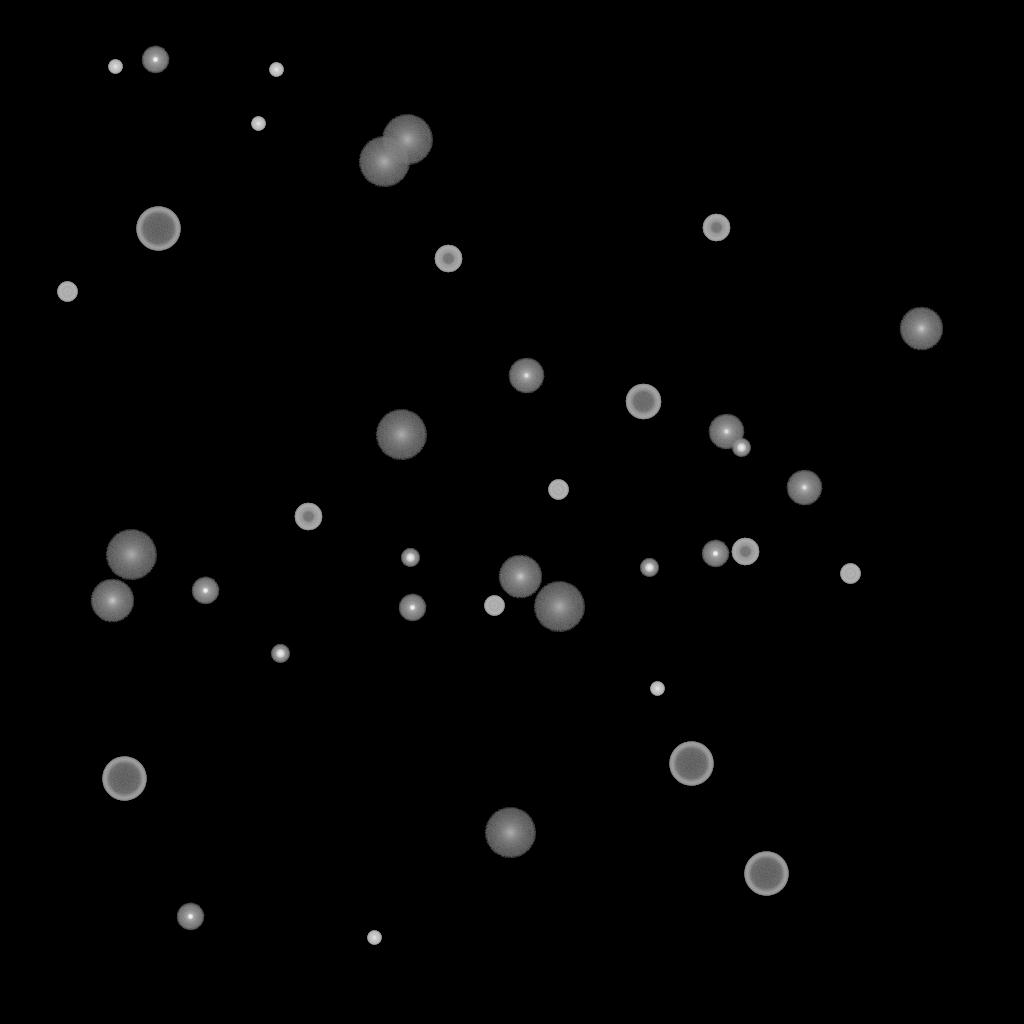depth:-10: (191, 577, 219, 605), (176, 903, 204, 931), (398, 594, 426, 622), (141, 46, 169, 74), (701, 540, 729, 568)
depth:-20: (271, 645, 289, 663), (640, 559, 658, 577), (401, 549, 419, 567), (732, 439, 750, 457)
depth:-30: (251, 117, 265, 131), (269, 63, 283, 77), (367, 931, 381, 945), (650, 682, 664, 696), (108, 60, 122, 74)
depth:-40: (57, 282, 77, 302), (484, 596, 504, 616), (548, 480, 568, 500), (840, 564, 860, 584)
depth:-50: (702, 214, 730, 242), (294, 503, 322, 531), (434, 245, 462, 273), (731, 538, 759, 566)
depth:-60: (625, 384, 661, 420)
depth:-70: (102, 757, 146, 801), (744, 852, 788, 896), (136, 207, 180, 251), (669, 742, 713, 786)
depth:0: (508, 358, 544, 394), (708, 414, 744, 450), (786, 470, 822, 506)
depth:10: (90, 579, 134, 623), (498, 555, 542, 599), (899, 307, 943, 351)
depth:20: (105, 530, 157, 580), (533, 582, 585, 632), (358, 137, 410, 187), (381, 115, 433, 165), (484, 808, 536, 858), (375, 410, 427, 460)
